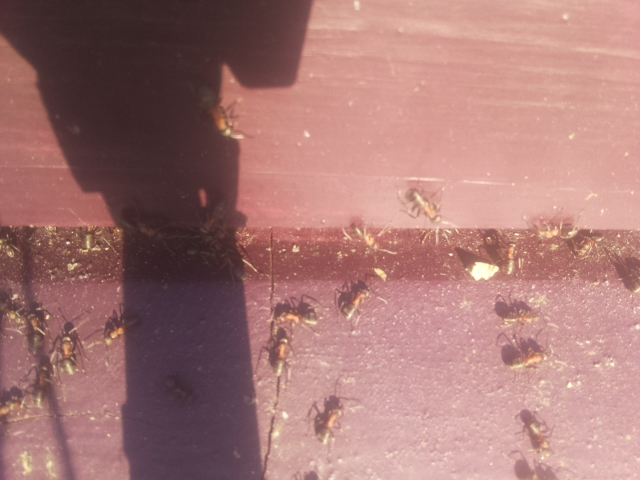ant: (185, 81, 248, 140), (111, 198, 173, 244), (509, 404, 558, 458), (398, 181, 448, 230), (312, 397, 348, 453), (98, 306, 142, 350), (344, 216, 386, 254), (499, 345, 551, 373), (156, 371, 196, 405), (339, 285, 373, 323), (54, 330, 79, 381), (270, 330, 292, 382), (501, 241, 520, 276)
